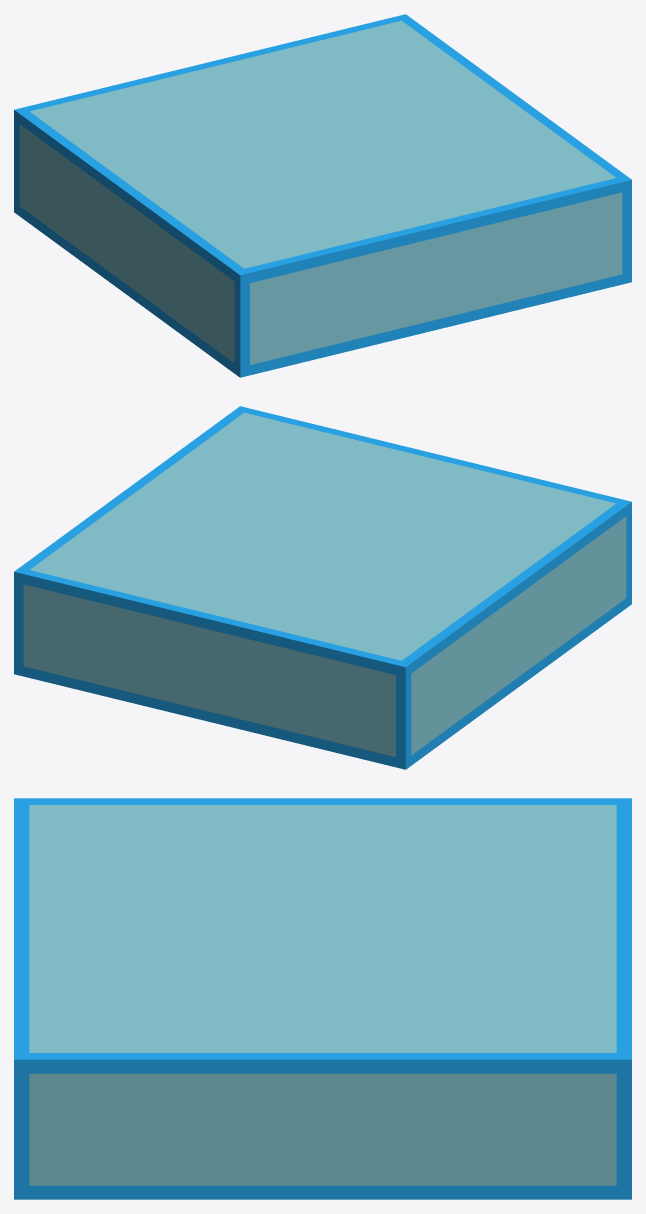
Rendered from Box_HalfHeight.obj.
3 views of the same model, one above another, from view 1: azimuth 30°, elevation 25°; view 2: azimuth 150°, elevation 25°; view 3: azimuth 270°, elevation 25° (orthographic). The views are drawn at different scales.
Size of the model in its own units: 40 by 10 by 40.
Materials: 1 (1 with a texture image).
